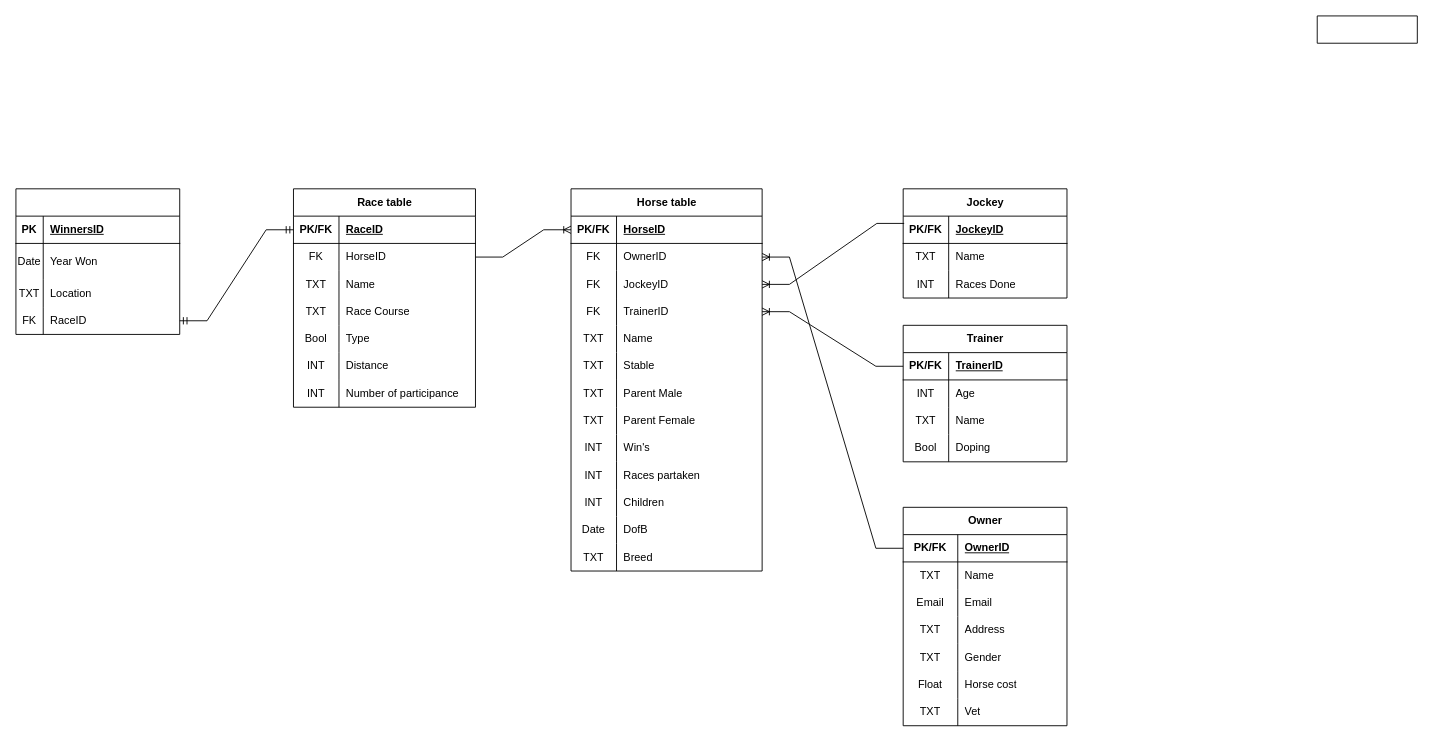
Some shapes in this 1433 by 742 pixel diagram are drawn without their labels. Here are the shapes that lost their labels. From the top down, the box of each, then its label:
(1316, 15, 1417, 43): league table
(15, 188, 180, 334): Winners table
